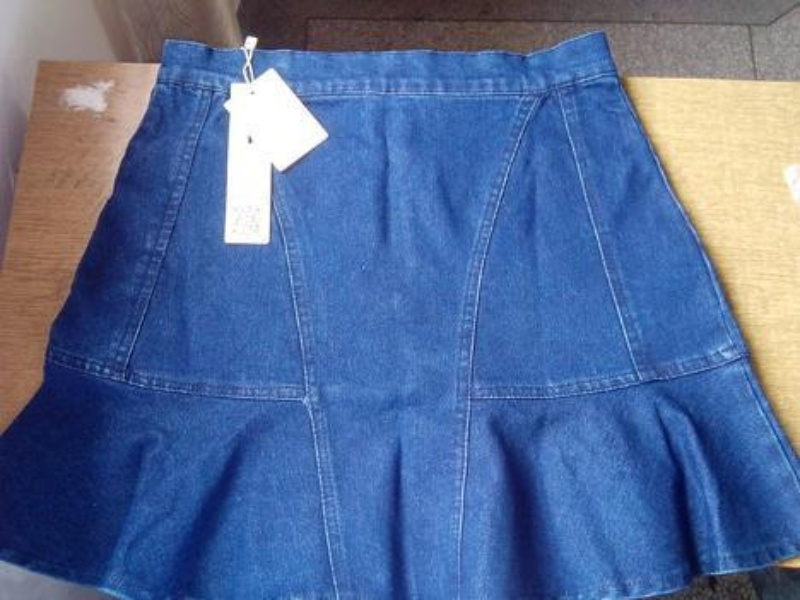skirt: (0, 29, 798, 598)
